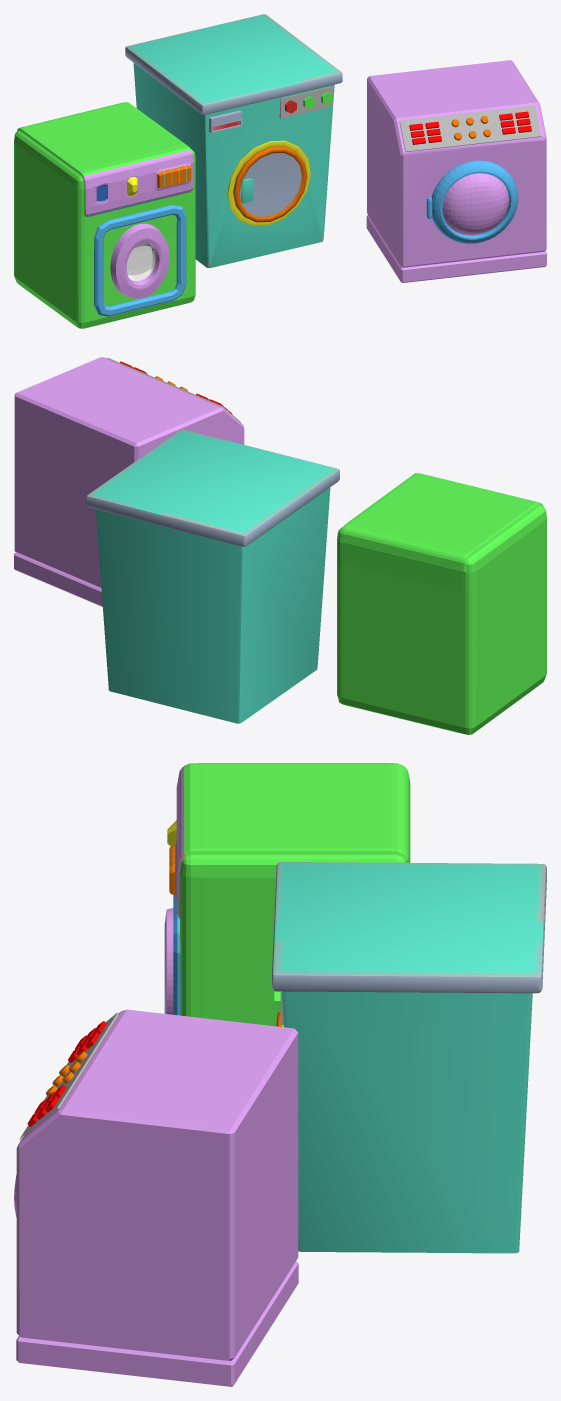
The model's file is Washing Machines 00.fbx.
The picture shows the model from 3 angles, top to bottom: view 1: azimuth 30°, elevation 25°; view 2: azimuth 150°, elevation 25°; view 3: azimuth 270°, elevation 25°; orthographic projection. The views are drawn at different scales.
Visible parts, largest first — view 1: washing_machine_01, washing_machine_03_p, washing_machine_p_01, washing_machine_p_02, washing_machine_lid_01, Washing_machine_p1; view 2: washing_machine_01, washing_machine_03_p, washing_machine_p_01; view 3: washing_machine_01, washing_machine_p_01, washing_machine_03_p, Washing_machine_p1.
Boxes of the visible parts, <box> form: washing_machine_01: <box>125,14,342,267</box>; washing_machine_03_p: <box>14,102,195,328</box>; washing_machine_p_01: <box>366,60,546,282</box>; washing_machine_p_02: <box>426,160,518,243</box>; washing_machine_lid_01: <box>233,146,307,222</box>; Washing_machine_p1: <box>110,223,169,298</box>; washing_machine_01: <box>86,429,339,723</box>; washing_machine_03_p: <box>337,473,546,734</box>; washing_machine_p_01: <box>14,357,244,606</box>; washing_machine_01: <box>272,862,546,1253</box>; washing_machine_p_01: <box>16,1009,298,1386</box>; washing_machine_03_p: <box>167,763,410,1026</box>; Washing_machine_p1: <box>164,908,173,1014</box>.
Bounding box in the file's own units: 1245 × 454 × 764.
1 material, 1 textured.
